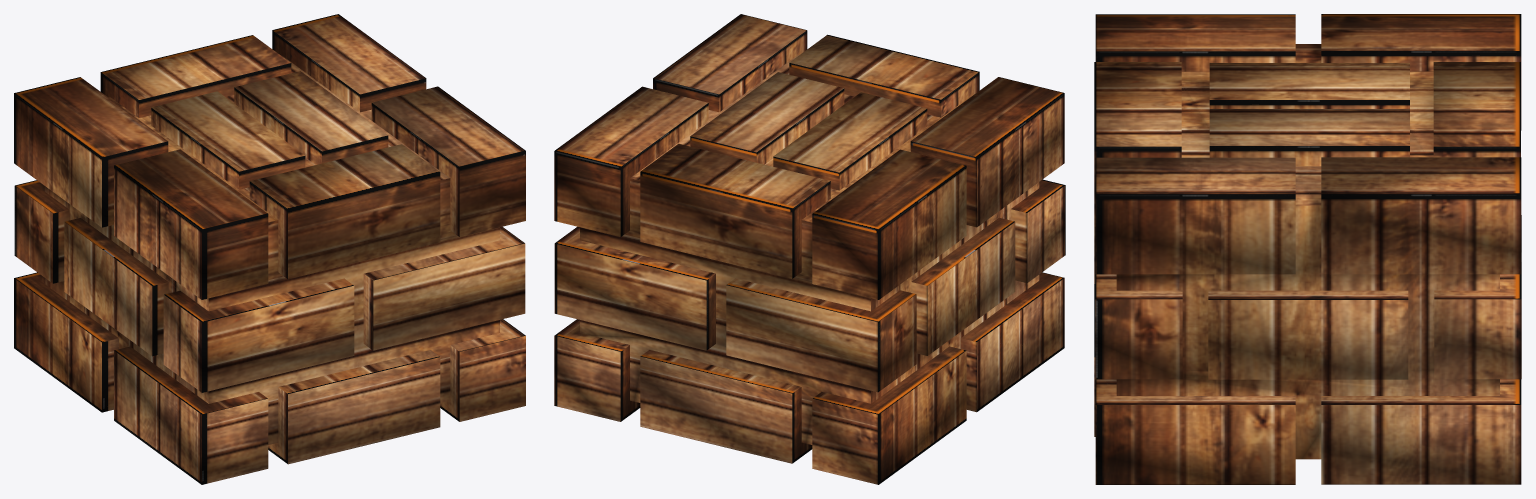
The model's file is Destruible.fbx.
3 renders of one model, left to right at view 1: azimuth 30°, elevation 25°; view 2: azimuth 150°, elevation 25°; view 3: azimuth 270°, elevation 25°, orthographic. The views are drawn at different scales.
Visible parts, largest first — view 1: Cubo+Objeto Nulo; view 2: Cubo+Objeto Nulo; view 3: Cubo+Objeto Nulo.
Boxes of the visible parts, box(x1,y1,x2,y2) form: Cubo+Objeto Nulo: box(14, 14, 525, 484); Cubo+Objeto Nulo: box(554, 14, 1065, 484); Cubo+Objeto Nulo: box(1094, 14, 1521, 484).
Size of the model in its own units: 100 by 75 by 100.
